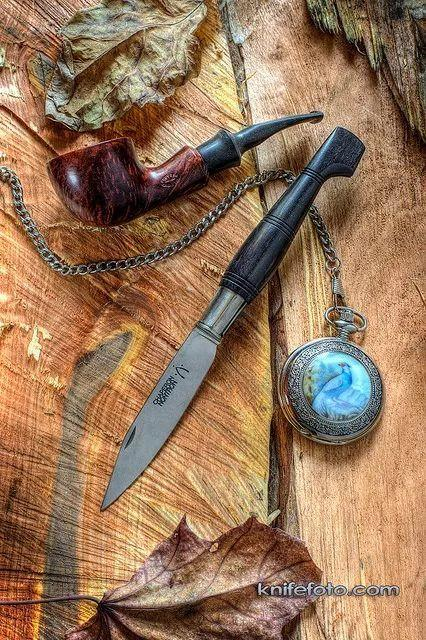knife: (69, 56, 383, 549)
